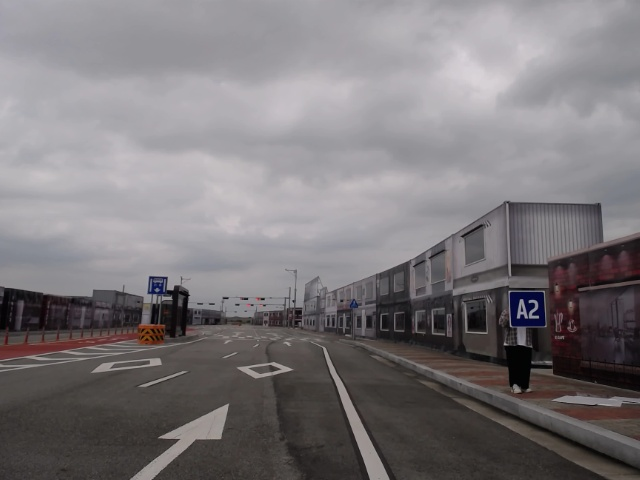delivery_a2: (508, 291, 547, 328)
